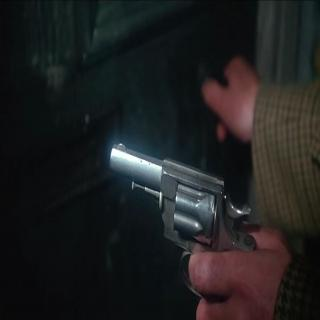gun: (94, 146, 293, 319)
